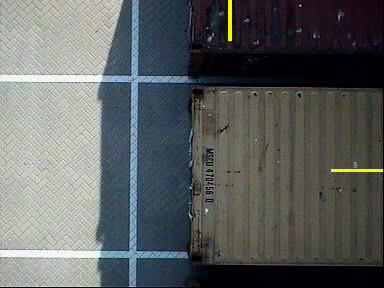groundmarker_2: (152, 136, 197, 169), (149, 15, 194, 48)
